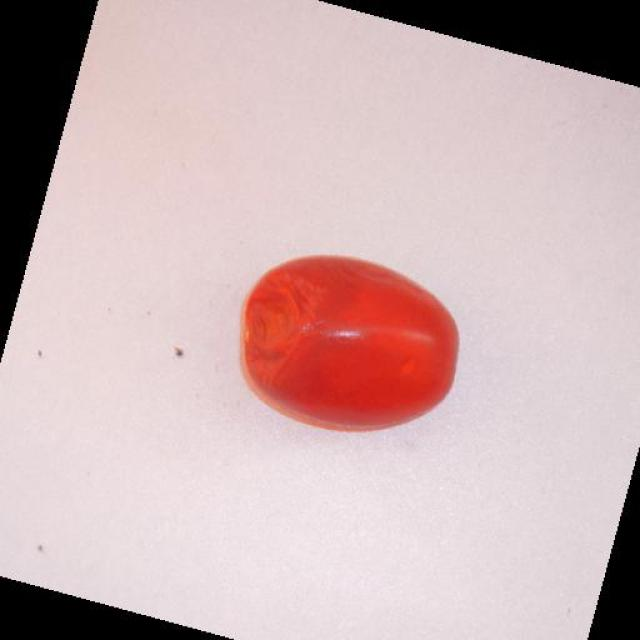Stale_tomato: (223, 244, 487, 442)
